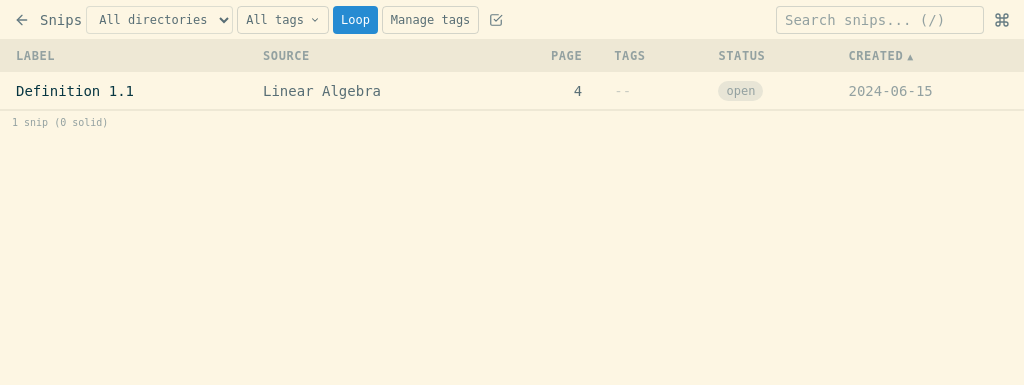
Test: SnipsPage › "Expand" shows inline preview with snip details and collapse button
Note: Open context menu and click Expand
Right-click the text "Definition 1.1" at (512, 91), box [0,72,1023,110]
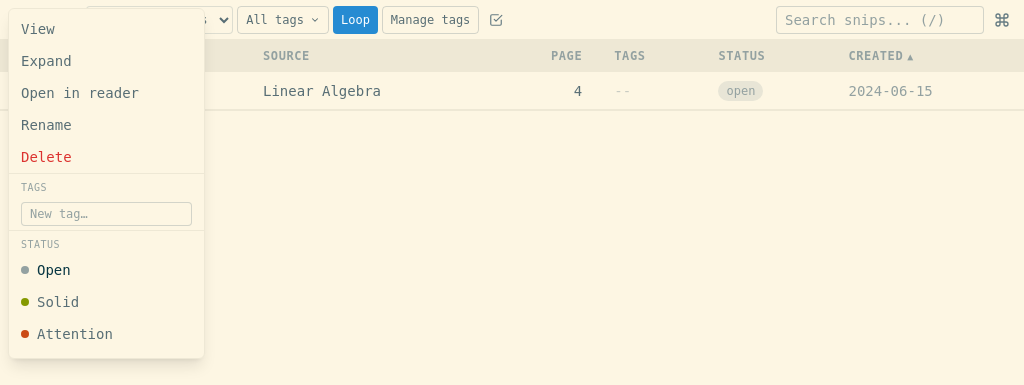
Click the button "Expand" at (106, 61), box [9,45,204,77]
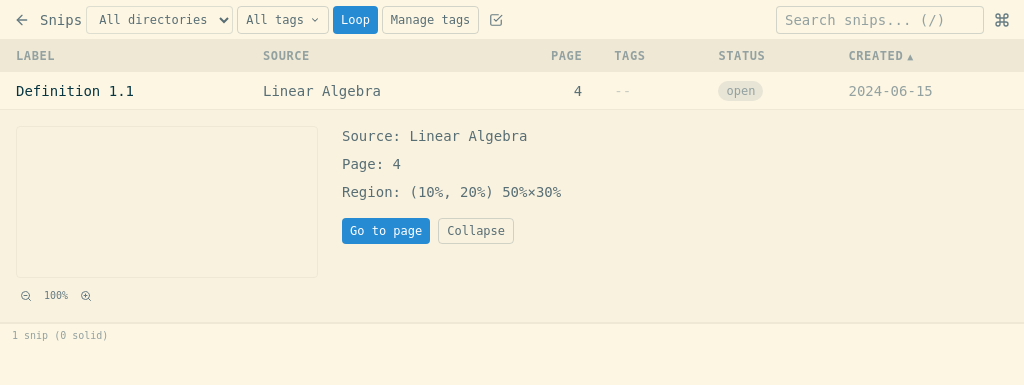
Now the button "Go to page" is shown, box [342,218,430,244]
Now the button "Collapse" is shown, box [438,218,514,244]
Now the text "Page:" is shown, box [342,156,384,172]
